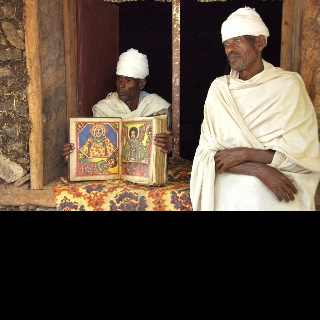without_mask: (223, 35, 257, 70), (116, 75, 139, 100)
